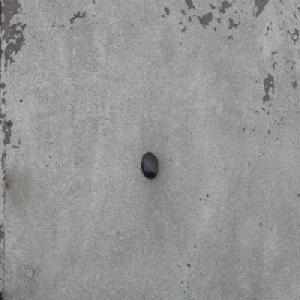FuelCap: (140, 150, 158, 179)
